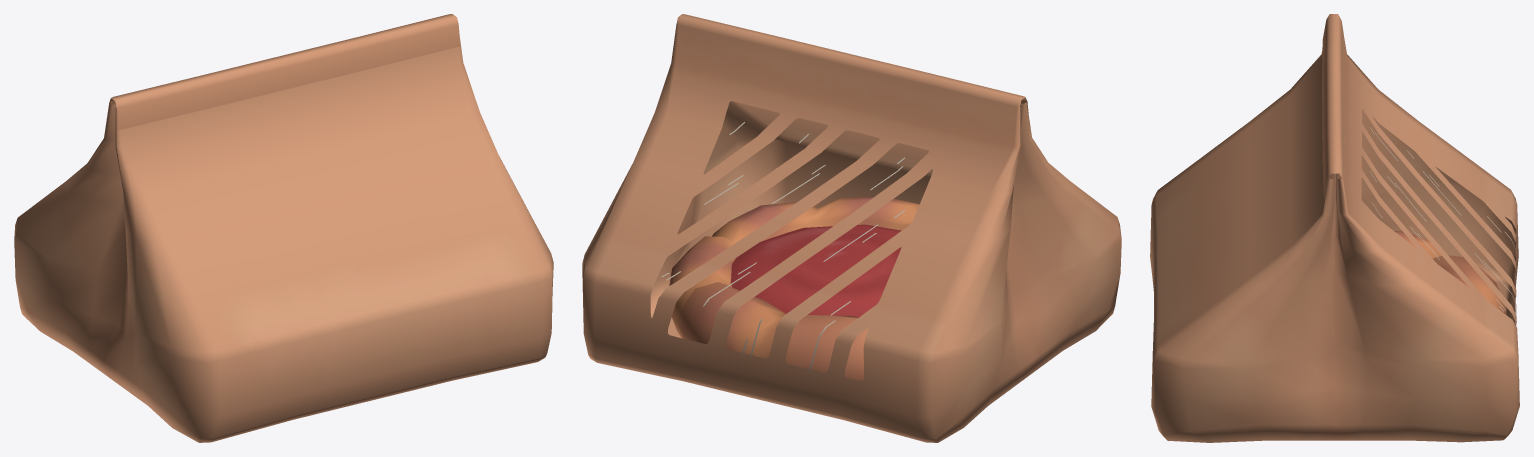
Rendered from vatrushka_pocket_1.fbx.
3 renders of one model, left to right at view 1: azimuth 30°, elevation 25°; view 2: azimuth 150°, elevation 25°; view 3: azimuth 270°, elevation 25°, orthographic. The views are drawn at different scales.
Visible parts, largest first — view 1: cheese_cake_jam_packet.001; view 2: cheese_cake_jam_packet.001; view 3: cheese_cake_jam_packet.001.
Boxes of the visible parts, bbox=[...] form: cheese_cake_jam_packet.001: bbox=[14, 14, 553, 442]; cheese_cake_jam_packet.001: bbox=[582, 14, 1121, 442]; cheese_cake_jam_packet.001: bbox=[1150, 14, 1519, 442].
Bounding box in the file's own units: 16.57 × 11.43 × 14.39.
